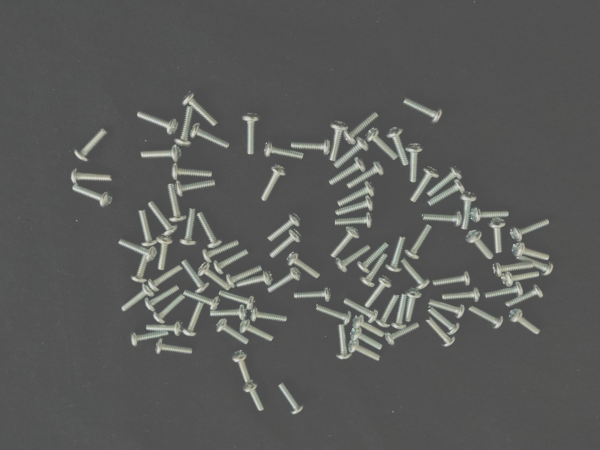shortscrew: (182, 90, 220, 127), (73, 127, 112, 163), (403, 95, 448, 124), (343, 111, 380, 146), (334, 136, 370, 170), (427, 165, 464, 198), (148, 202, 179, 238), (190, 123, 231, 150), (328, 157, 366, 186), (347, 161, 385, 190), (510, 217, 552, 243), (366, 128, 399, 161), (153, 293, 187, 325), (181, 258, 211, 294), (71, 184, 114, 209), (137, 111, 180, 136), (411, 166, 440, 203), (329, 226, 360, 260), (267, 211, 301, 242), (428, 180, 467, 207), (427, 307, 462, 337), (148, 264, 184, 293), (505, 284, 545, 310), (405, 223, 433, 260), (338, 181, 376, 208), (269, 229, 303, 259), (287, 251, 323, 279), (118, 237, 158, 262), (426, 316, 457, 348), (401, 258, 431, 291), (261, 164, 287, 202), (143, 286, 181, 312), (119, 285, 154, 313), (267, 267, 303, 294), (215, 318, 251, 345), (213, 249, 250, 275), (510, 308, 543, 337), (202, 240, 240, 265), (386, 127, 409, 168), (468, 305, 505, 330), (343, 299, 380, 324), (365, 277, 393, 310), (327, 121, 349, 162), (466, 230, 495, 261), (384, 323, 421, 347), (227, 265, 264, 289), (198, 212, 222, 249), (279, 383, 305, 417), (239, 319, 277, 342), (130, 248, 154, 284), (517, 254, 554, 277), (376, 295, 401, 329), (350, 325, 384, 350), (175, 106, 195, 148), (167, 183, 188, 223), (198, 263, 229, 290), (385, 236, 407, 274), (184, 289, 222, 311), (316, 304, 352, 327), (175, 178, 216, 198), (405, 143, 425, 184), (337, 196, 376, 217), (242, 112, 261, 155), (493, 259, 535, 278), (353, 314, 386, 338), (348, 339, 382, 362), (264, 142, 305, 161), (511, 242, 552, 261), (422, 209, 463, 228), (429, 298, 466, 319), (484, 282, 524, 301), (171, 164, 213, 182), (219, 290, 255, 311), (70, 168, 114, 185), (139, 145, 183, 162), (501, 269, 540, 288), (460, 191, 479, 230), (130, 330, 169, 349), (335, 212, 374, 231), (180, 209, 199, 248), (232, 350, 255, 382), (183, 302, 204, 337), (294, 285, 332, 304), (138, 210, 157, 248), (292, 139, 331, 157), (250, 306, 289, 324), (470, 207, 511, 224), (442, 286, 480, 304), (433, 269, 471, 287), (154, 338, 192, 356), (243, 381, 265, 412), (404, 289, 423, 324), (156, 236, 175, 271), (335, 324, 352, 362), (235, 271, 273, 288), (489, 219, 507, 254), (146, 321, 184, 337), (392, 294, 408, 331), (210, 305, 247, 321)
